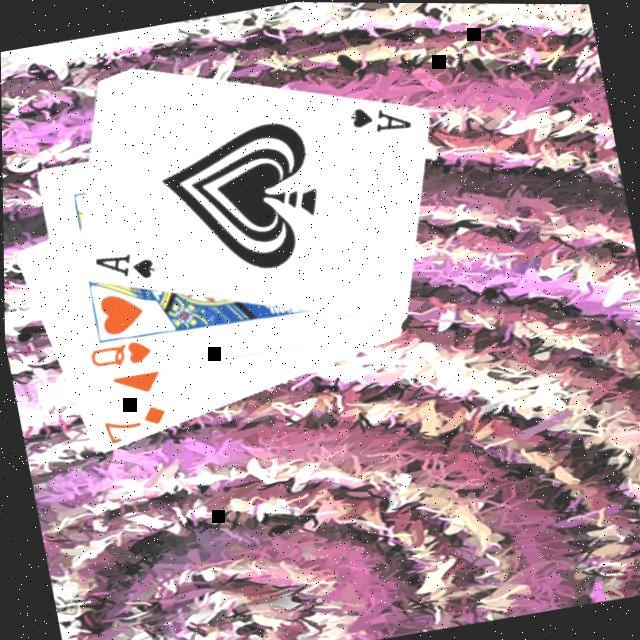7D: (94, 402, 170, 448)
AS: (341, 97, 415, 142), (86, 247, 156, 292)
QH: (80, 337, 152, 377)
